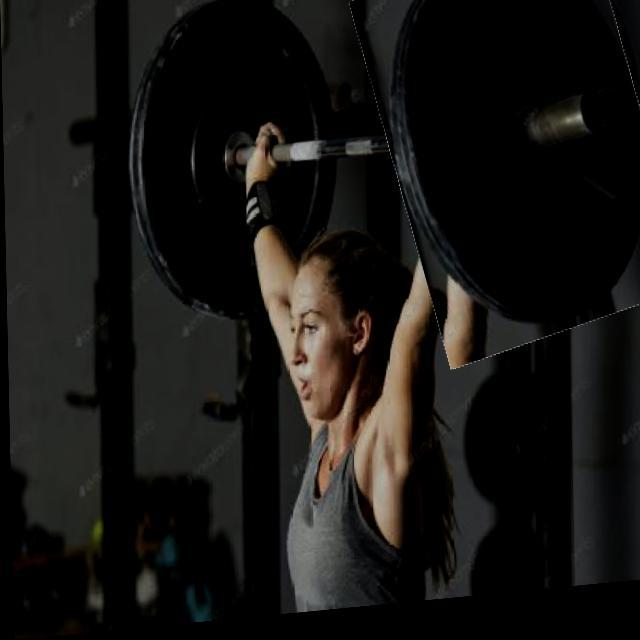barbell: (370, 1, 640, 372)
